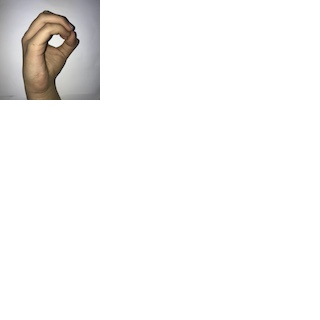rock: (17, 7, 81, 96)
